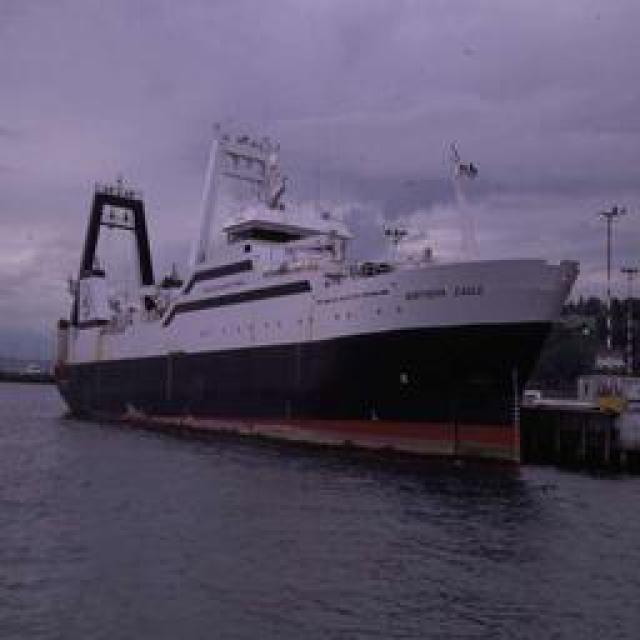Ship: (46, 131, 579, 441)
